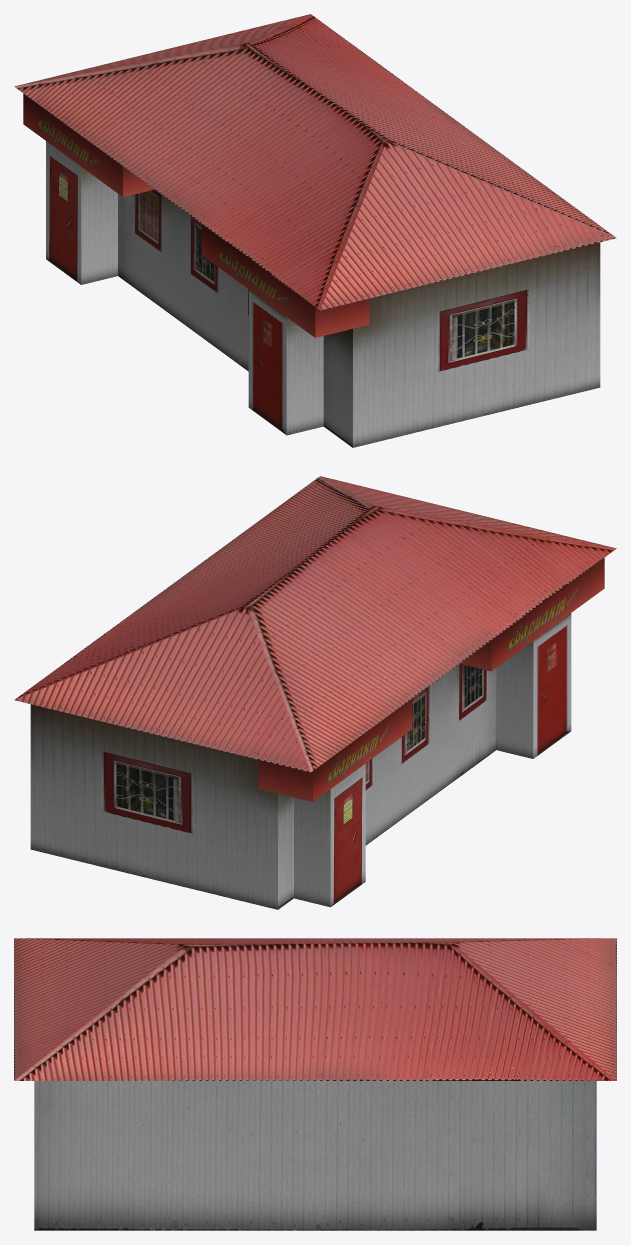
Rendered from d_minimag.FBX.
3 renders of one model, top to bottom at view 1: azimuth 30°, elevation 25°; view 2: azimuth 150°, elevation 25°; view 3: azimuth 270°, elevation 25°, orthographic.
Visible parts, largest first — view 1: d_minimag; view 2: d_minimag; view 3: d_minimag.
Part boxes in pixels (x1=…): d_minimag: x1=14, y1=14, x2=616, y2=447; d_minimag: x1=14, y1=476, x2=616, y2=909; d_minimag: x1=14, y1=938, x2=616, y2=1230.
Size of the model in its own units: 6 by 10.72 by 4.31.
